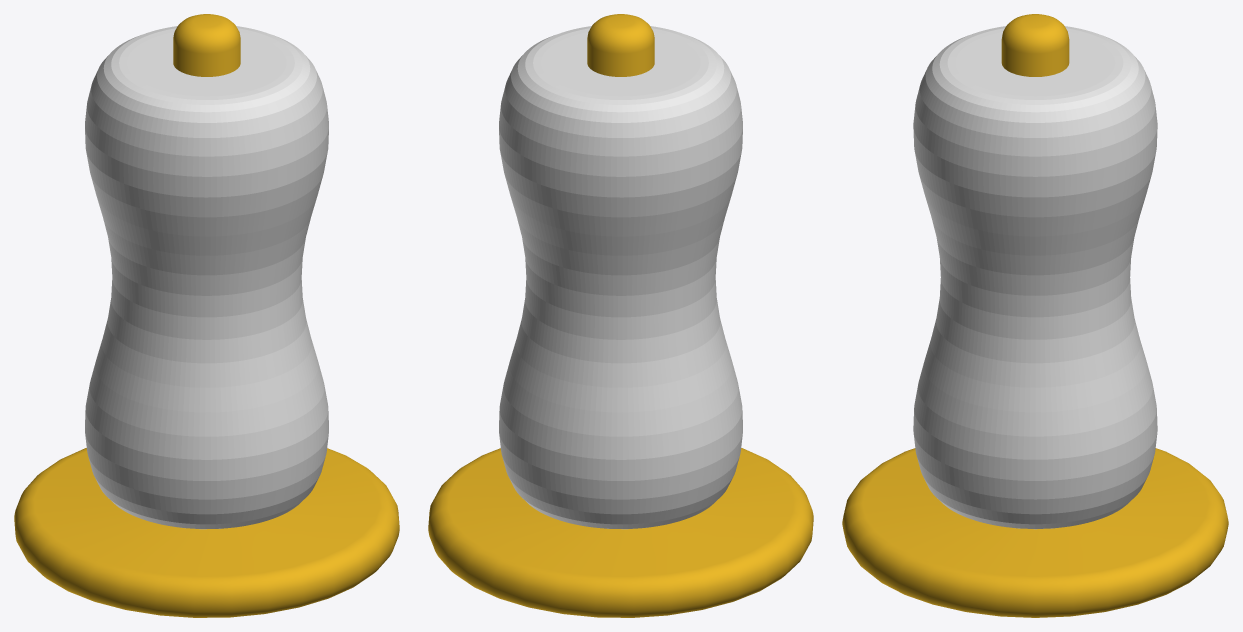
File: loom with wool.fbx
3 renders of one model, left to right at view 1: azimuth 30°, elevation 25°; view 2: azimuth 150°, elevation 25°; view 3: azimuth 270°, elevation 25°, orthographic.
Parts seen in each view (by area): view 1: Cylinder.005, Cylinder.003; view 2: Cylinder.005, Cylinder.003; view 3: Cylinder.005, Cylinder.003.
Part boxes in pixels (x1=…): Cylinder.005: x1=85, y1=26, x2=328, y2=529; Cylinder.003: x1=14, y1=14, x2=399, y2=617; Cylinder.005: x1=499, y1=26, x2=742, y2=529; Cylinder.003: x1=428, y1=14, x2=813, y2=617; Cylinder.005: x1=913, y1=26, x2=1157, y2=529; Cylinder.003: x1=842, y1=14, x2=1228, y2=617.
Bounding box in the file's own units: 77.56 × 116 × 77.56.
